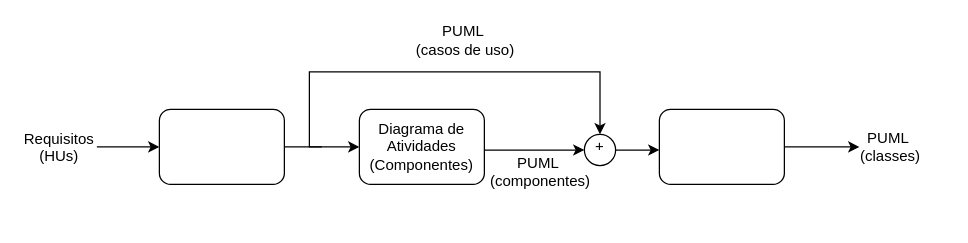
The diagram is 968 pixels wide and 243 high, and some of its shapes have lost their labels. The shapes that lost their labels are listed below. From the top down, each one's centre as x and y in pixels, then its label:
At (221,146): "Diagrama de Atividades (Casos de uso)".
At (721,146): "Diagrama de Atividades (Classes)".
